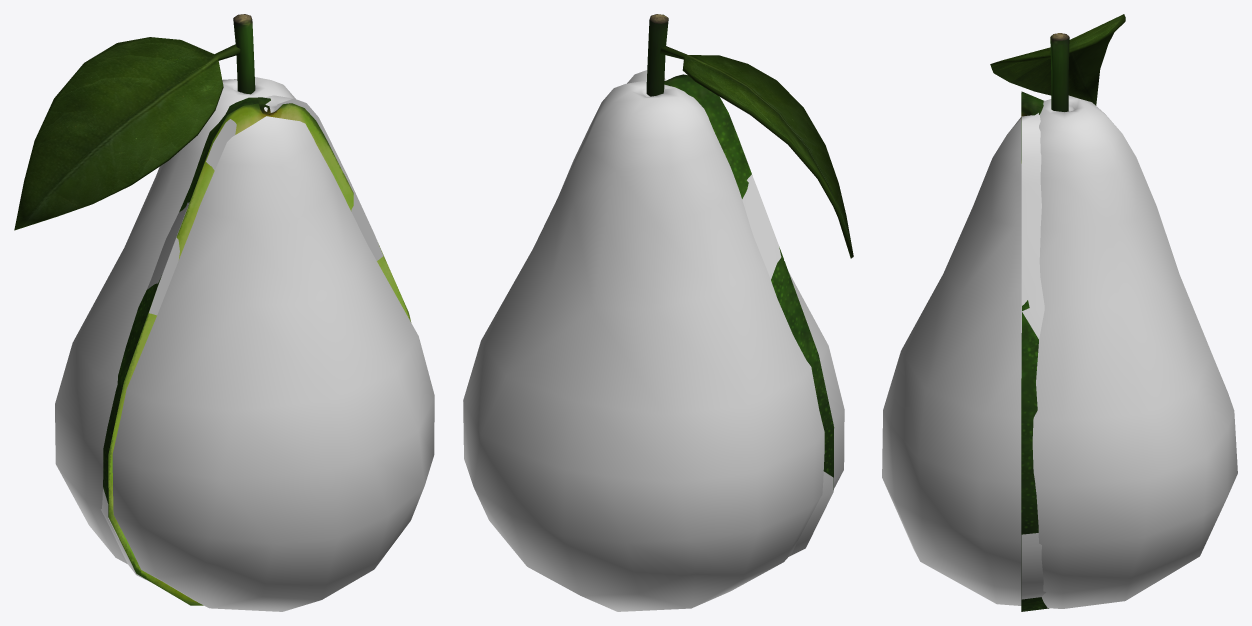
File: RealFruits_Avocado.FBX
3 views of the same model, side by side, from view 1: azimuth 30°, elevation 25°; view 2: azimuth 150°, elevation 25°; view 3: azimuth 270°, elevation 25° (orthographic). The views are drawn at different scales.
Parts seen in each view (by area): view 1: Avocado, Avocado_Leaf, Avocado_half_2, Avocado_half_1, Avocado_Top; view 2: Avocado, Avocado_Leaf, Avocado_half_2, Avocado_half_1, Avocado_Top; view 3: Avocado, Avocado_half_1, Avocado_Leaf, Avocado_half_2, Avocado_Top.
Part boxes in pixels (box(x1,y1,x2,y2)): Avocado: box(55, 77, 434, 611); Avocado_Leaf: box(14, 37, 240, 230); Avocado_half_2: box(103, 97, 411, 605); Avocado_half_1: box(101, 95, 383, 580); Avocado_Top: box(233, 14, 255, 94); Avocado: box(463, 80, 844, 611); Avocado_Leaf: box(660, 46, 853, 258); Avocado_half_2: box(664, 74, 834, 489); Avocado_half_1: box(627, 70, 833, 556); Avocado_Top: box(646, 14, 668, 96); Avocado: box(882, 95, 1237, 608); Avocado_half_1: box(1021, 113, 1046, 599); Avocado_Leaf: box(990, 14, 1125, 105); Avocado_half_2: box(1021, 91, 1048, 611); Avocado_Top: box(1050, 33, 1069, 111).
Size of the model in its own units: 44.73 by 65.62 by 37.95.
